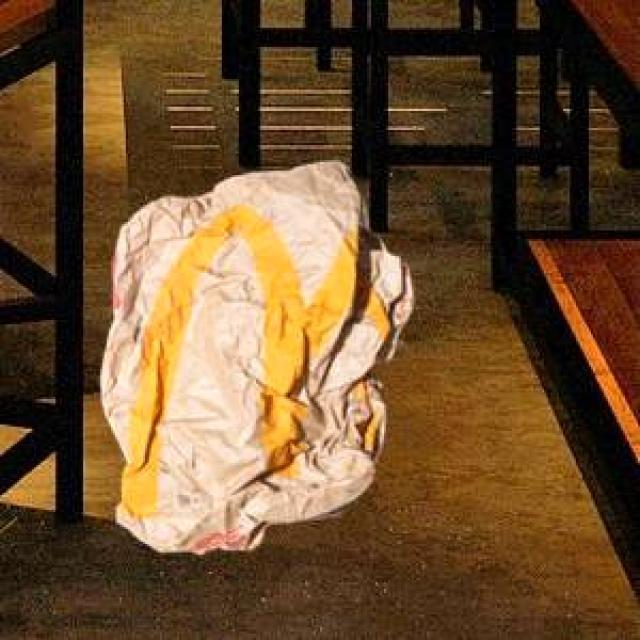Paper_Bag: (97, 158, 411, 552)
